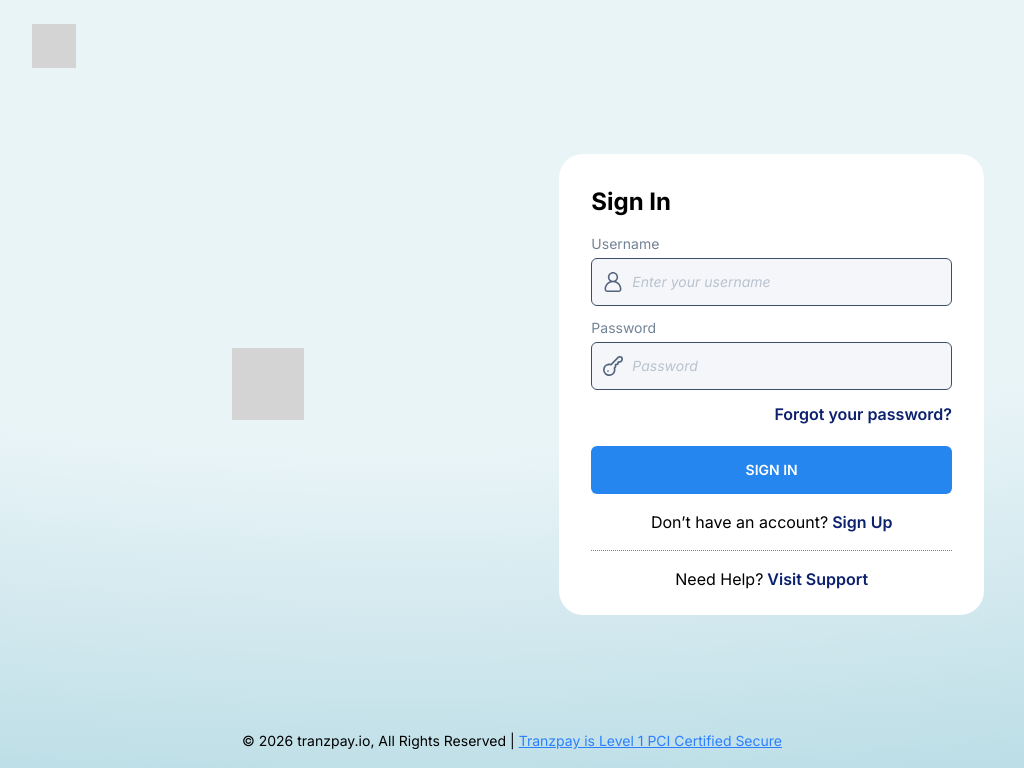
Test: LoginPage › lockout UI › clears the lockout UI when a different username is typed
In the field with placeholder "Enter your username": (772,282) x1=591 y1=258 x2=952 y2=306, type "locked.user@example.com"
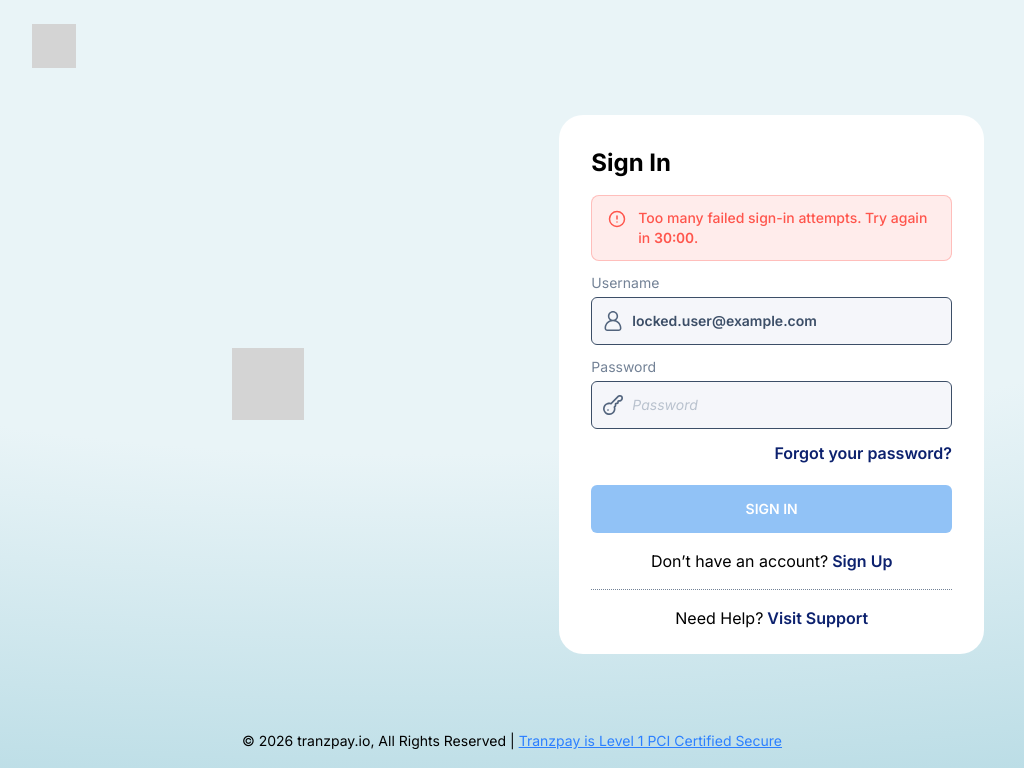
Expected: the button "SIGN IN" is disabled, x1=591 y1=484 x2=952 y2=532
Replace the text in the field with placeholder "Enter your username" with "other.user@example.com": (772,320) x1=591 y1=296 x2=952 y2=344
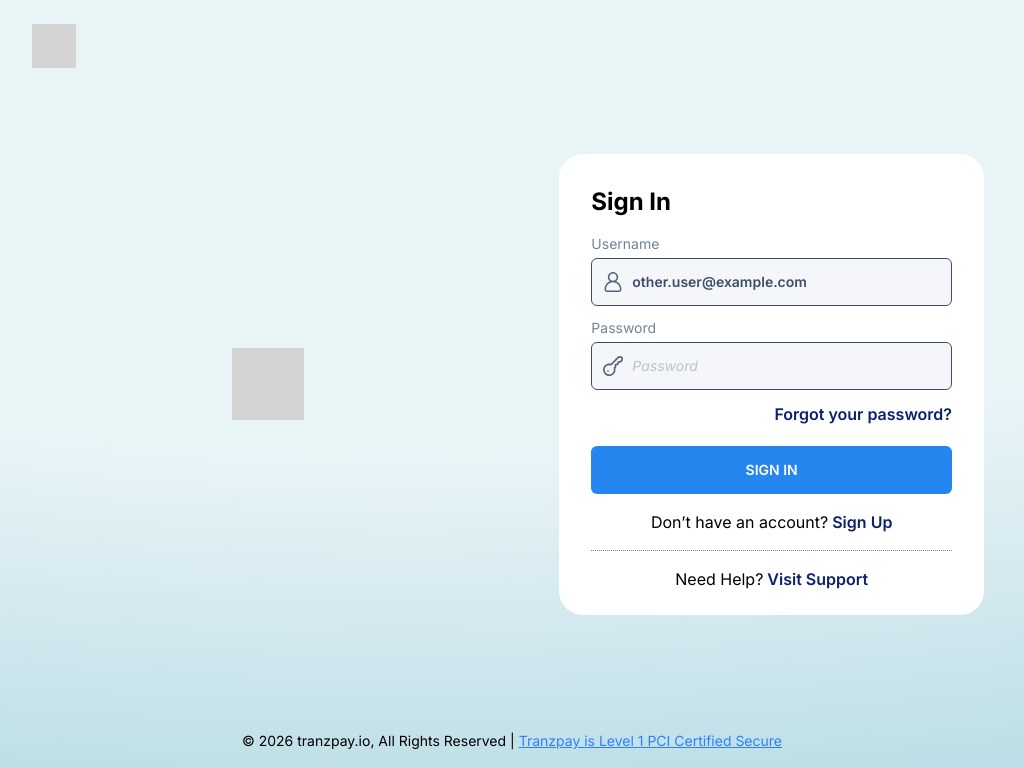
Expected: the message "Too many failed sign-in attempts. Try again in 30:00." is gone
Expected: the button "SIGN IN" is enabled, x1=591 y1=446 x2=952 y2=494
